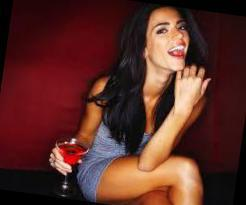Drunk: (149, 10, 191, 71)
